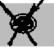not correct: (0, 0, 47, 46)
